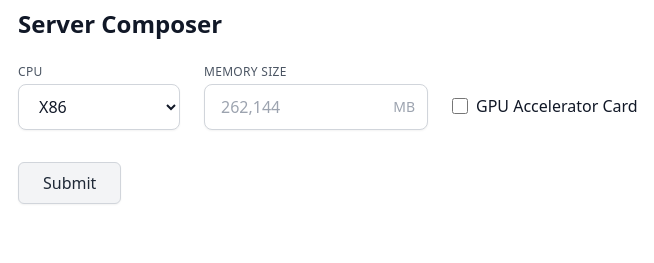
Test: ServerComposer › clears the validation error as soon as the user edits the field
Type "3,072" into the field labelled "Memory Size" at x=293, y=107, box [205,85,381,129]
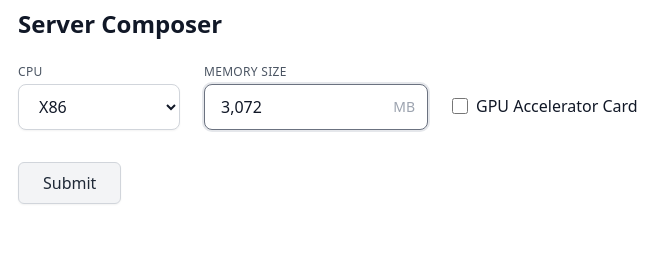
Click the button "Submit" at x=70, y=183, box [18,162,121,204]
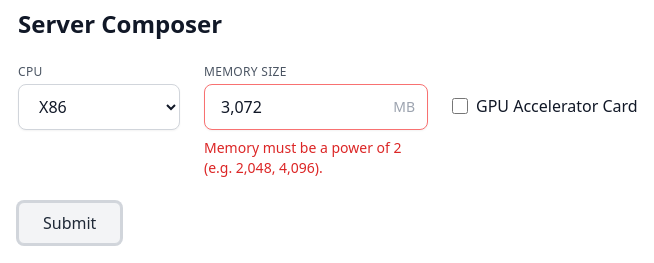
Check: the text "Memory must be a power of 2 (e.g. 2,048, 4,096)." is shown, box [204,138,428,178]
// Editing the field should immediately dismiss the stale error.
Type "0" into the field labelled "Memory Size" at x=293, y=107, box [205,85,381,129]
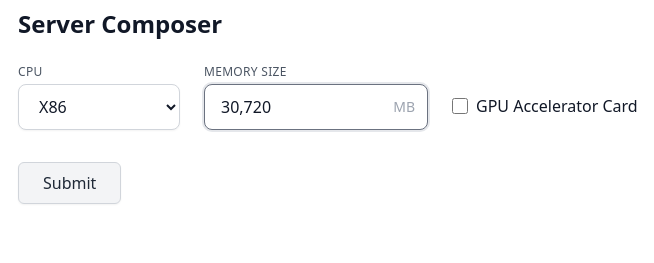
Check: the text "power of 2" is gone
